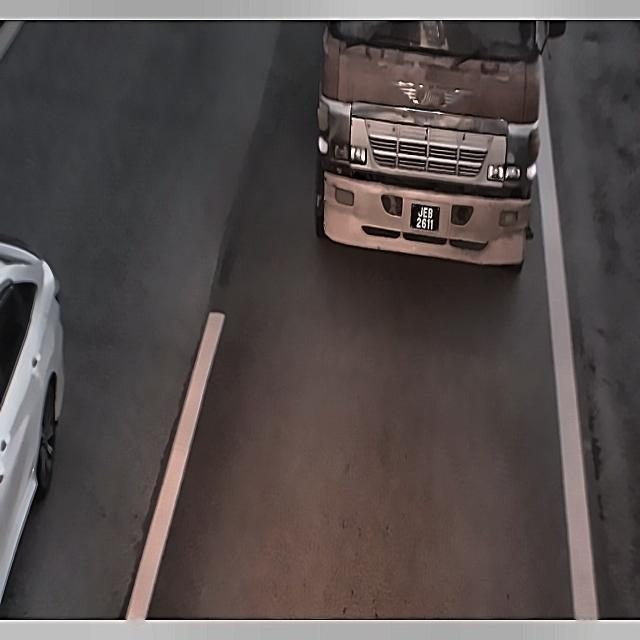car: (404, 194, 449, 243)
